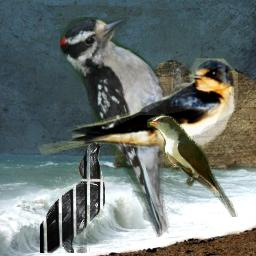Crow: (40, 142, 105, 253)
Cuckoo: (147, 113, 238, 217)
Swallow: (37, 58, 238, 162)
Woodpecker: (60, 17, 201, 237)
